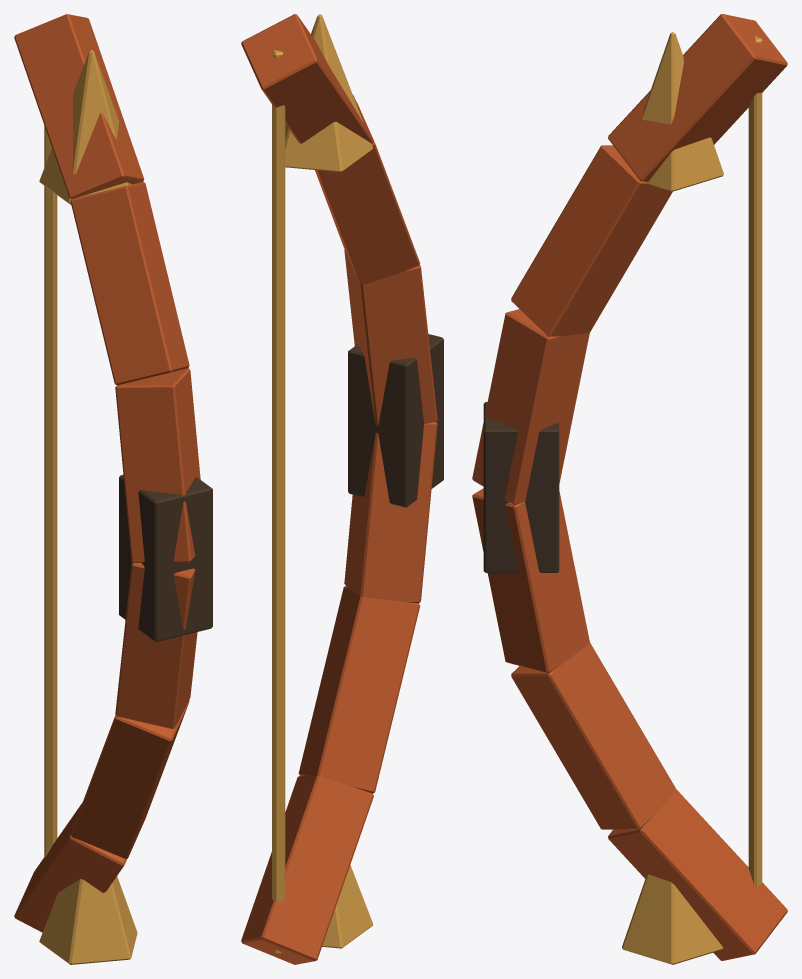
File: archer_fire.glb
3 renders of one model, left to right at view 1: azimuth 30°, elevation 25°; view 2: azimuth 150°, elevation 25°; view 3: azimuth 270°, elevation 25°, orthographic. The views are drawn at different scales.
Visible parts, largest first — view 1: weapon.017; view 2: weapon.017; view 3: weapon.017.
Boxes of the visible parts, box(x1,y1,x2,y2) form: weapon.017: box(14, 14, 212, 964); weapon.017: box(241, 14, 443, 964); weapon.017: box(472, 14, 787, 964).
Bounding box in the file's own units: 0.1413 × 1.52 × 0.4582.
